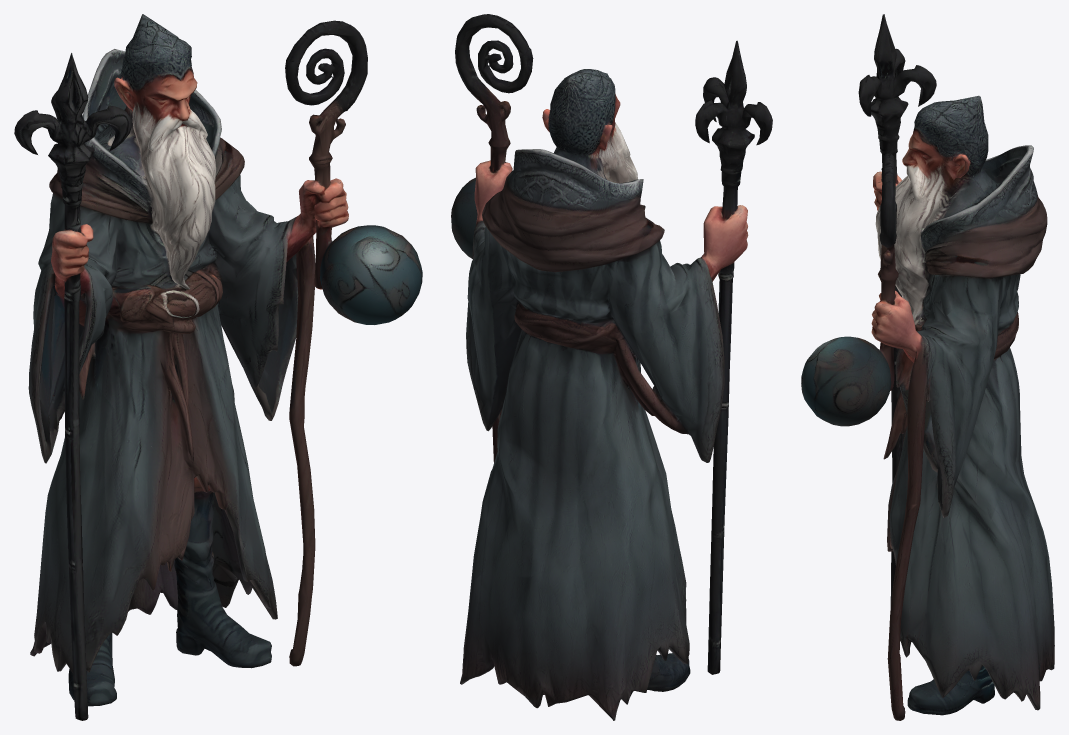
The model's file is malketh.glb.
3 renders of one model, left to right at view 1: azimuth 30°, elevation 25°; view 2: azimuth 150°, elevation 25°; view 3: azimuth 270°, elevation 25°, orthographic. The views are drawn at different scales.
Size of the model in its own units: 1.09 by 1.91 by 0.723.
Materials: 1 (1 with a texture image).
